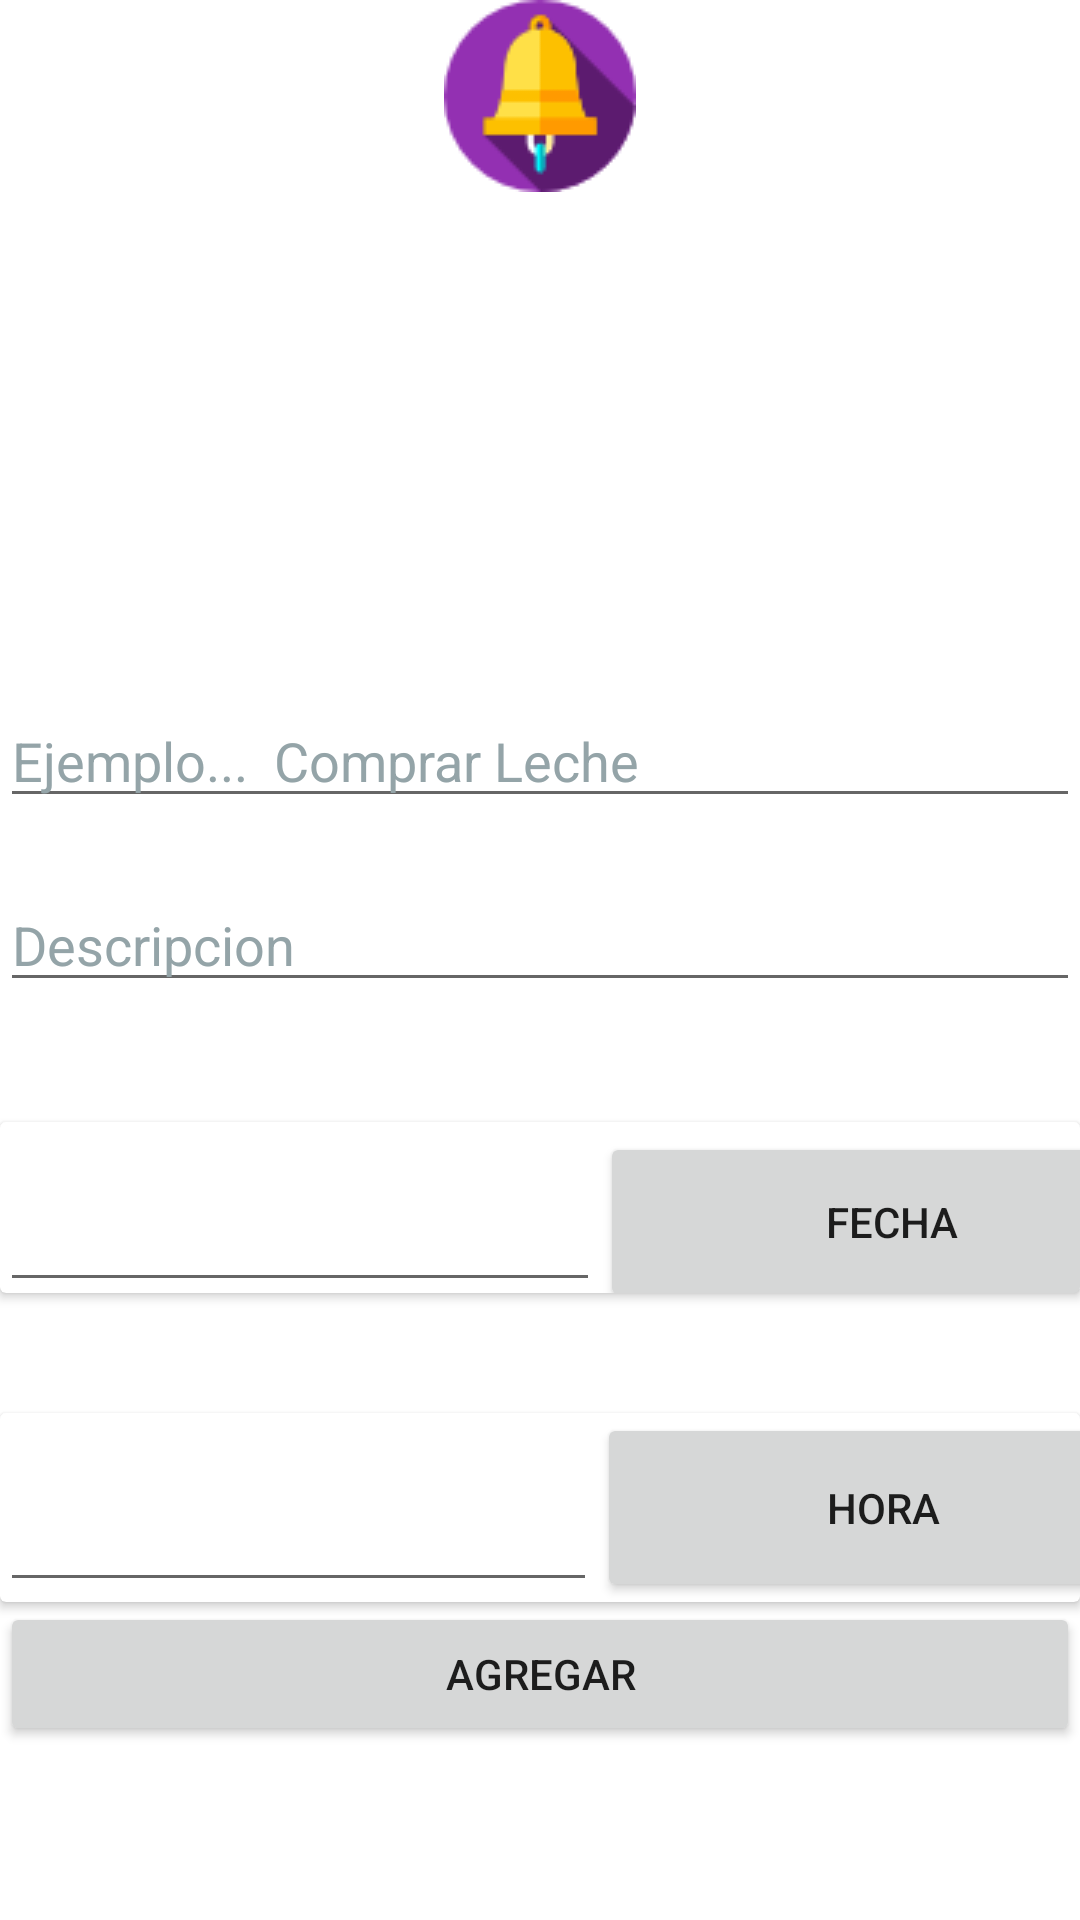

Where icons sit on this 1080px×1920px app screen, as [x1, y1, x2, y2]:
campana: [444, 0, 636, 192]
